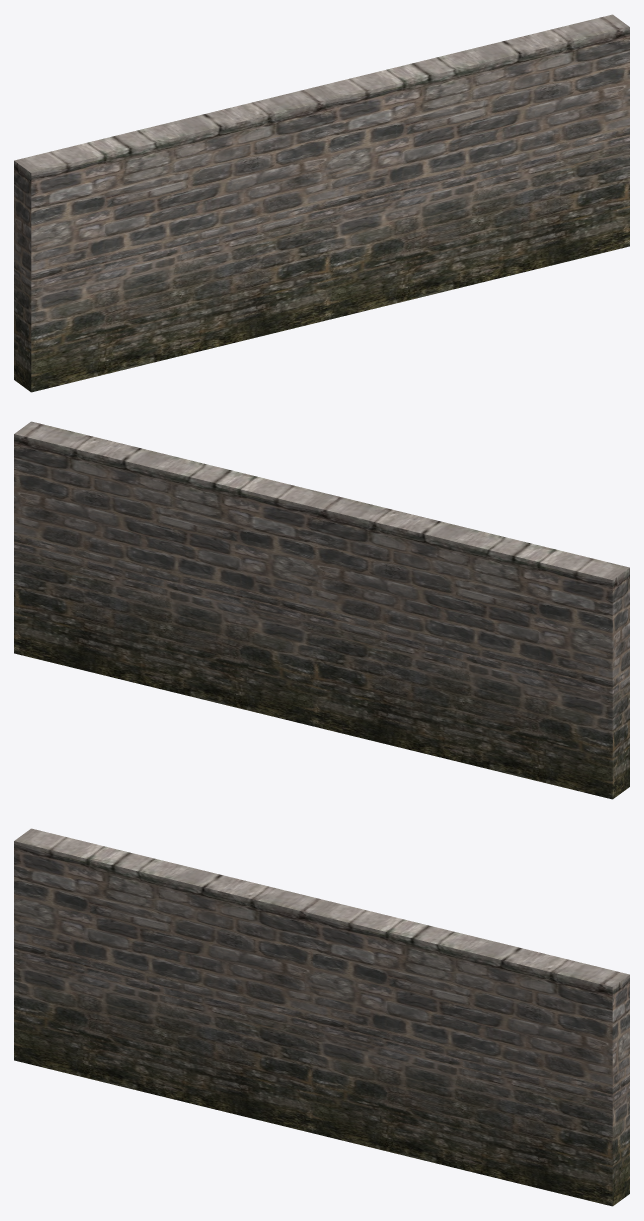
Rendered from LowWallStone_20.fbx.
The picture shows the model from 3 angles, top to bottom: view 1: azimuth 30°, elevation 25°; view 2: azimuth 150°, elevation 25°; view 3: azimuth 330°, elevation 25°; orthographic projection.
Parts seen in each view (by area): view 1: lod_high; view 2: lod_high; view 3: lod_high.
Part boxes in pixels (left/top/right/bottom): lod_high: left=14, top=14, right=629, bottom=392; lod_high: left=14, top=421, right=629, bottom=799; lod_high: left=14, top=828, right=629, bottom=1206.
Bounding box in the file's own units: 2000 × 700 × 100.
1 material, 1 textured.
